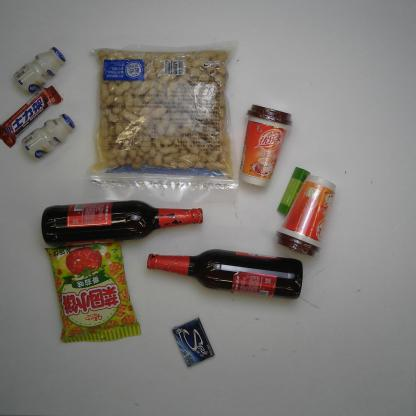Alcohol: (146, 247, 304, 300), (42, 195, 203, 245)
Chocolate: (1, 87, 66, 147)
Dried Food: (83, 34, 243, 203)
Gum: (172, 318, 214, 369)
Instant Drink: (276, 172, 337, 257), (238, 103, 292, 185)
Milk: (20, 113, 76, 160), (13, 46, 66, 92)
Puffed Food: (44, 238, 144, 345)
Stationery: (276, 166, 311, 215)
